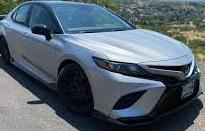Cars: (1, 2, 201, 126)
